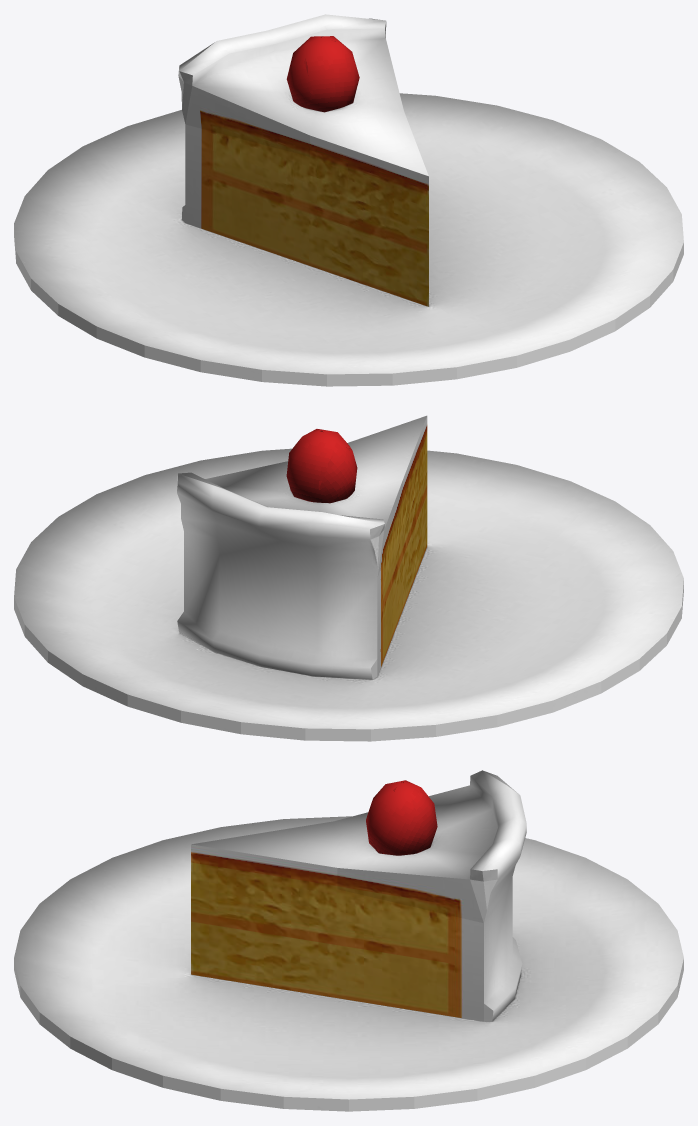
The model's file is cake.glb.
3 renders of one model, top to bottom at view 1: azimuth 30°, elevation 25°; view 2: azimuth 150°, elevation 25°; view 3: azimuth 270°, elevation 25°, orthographic.
Parts seen in each view (by area): view 1: plate, kek, berry; view 2: plate, kek, berry; view 3: plate, kek, berry.
Part boxes in pixels (<box>): plate: <box>14,93,683,386</box>; kek: <box>178,14,428,306</box>; berry: <box>286,36,359,112</box>; plate: <box>14,448,683,741</box>; kek: <box>177,415,427,679</box>; berry: <box>286,429,357,503</box>; plate: <box>14,816,683,1111</box>; kek: <box>191,770,526,1021</box>; berry: <box>366,780,437,855</box>.
Size of the model in its own units: 0.232 by 0.0763 by 0.232.
3 materials, 3 textured.
